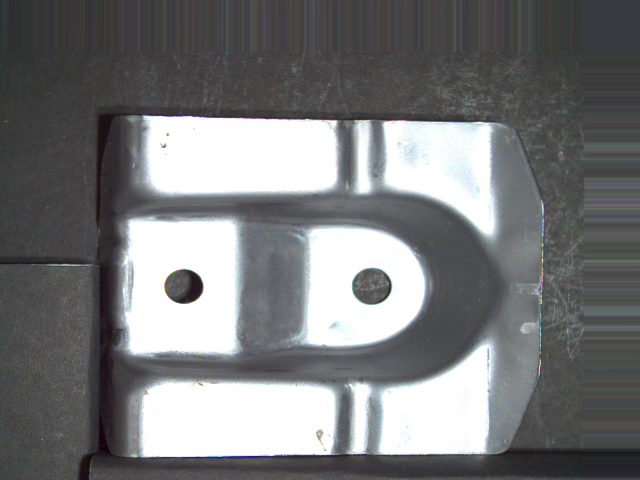defect: (348, 263, 393, 308)
